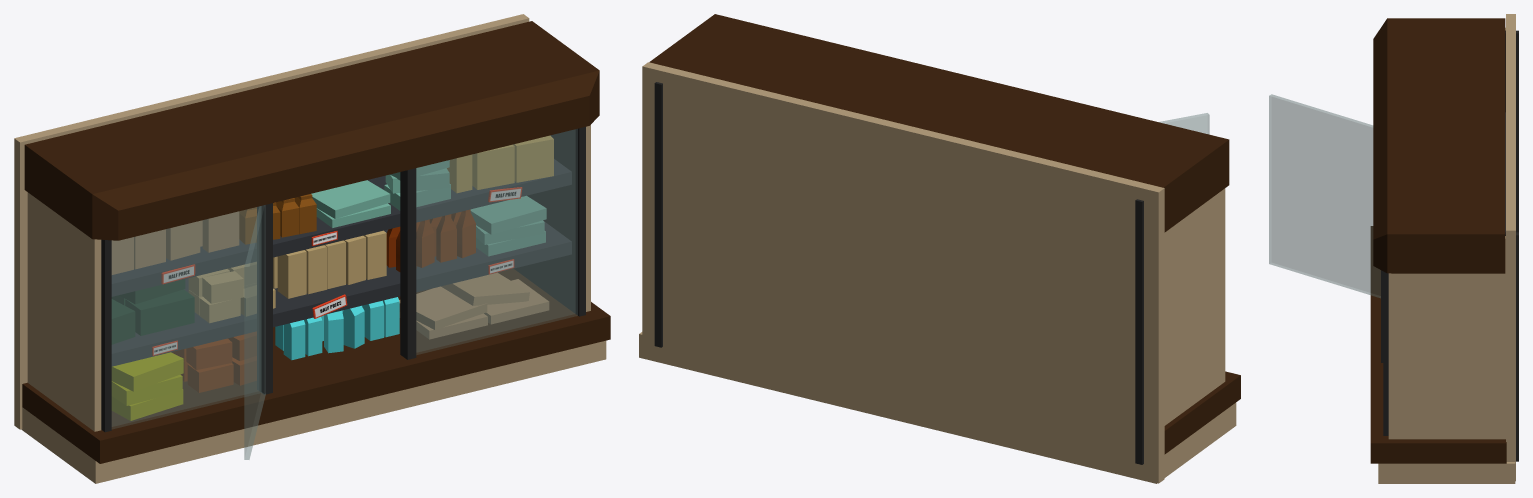
File: Refrigerator_opened2.fbx
The picture shows the model from 3 angles, left to right: view 1: azimuth 30°, elevation 25°; view 2: azimuth 150°, elevation 25°; view 3: azimuth 270°, elevation 25°; orthographic projection. The views are drawn at different scales.
Visible parts, largest first — view 1: pCube83; view 2: pCube83; view 3: pCube83.
Boxes of the visible parts, left/top/right/bottom form: pCube83: left=14, top=14, right=610, bottom=483; pCube83: left=639, top=14, right=1240, bottom=483; pCube83: left=1269, top=14, right=1518, bottom=483.
Size of the model in its own units: 873 by 469 by 422.
13 materials, 3 textured.
